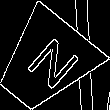N_SW: (13, 31, 77, 95)
